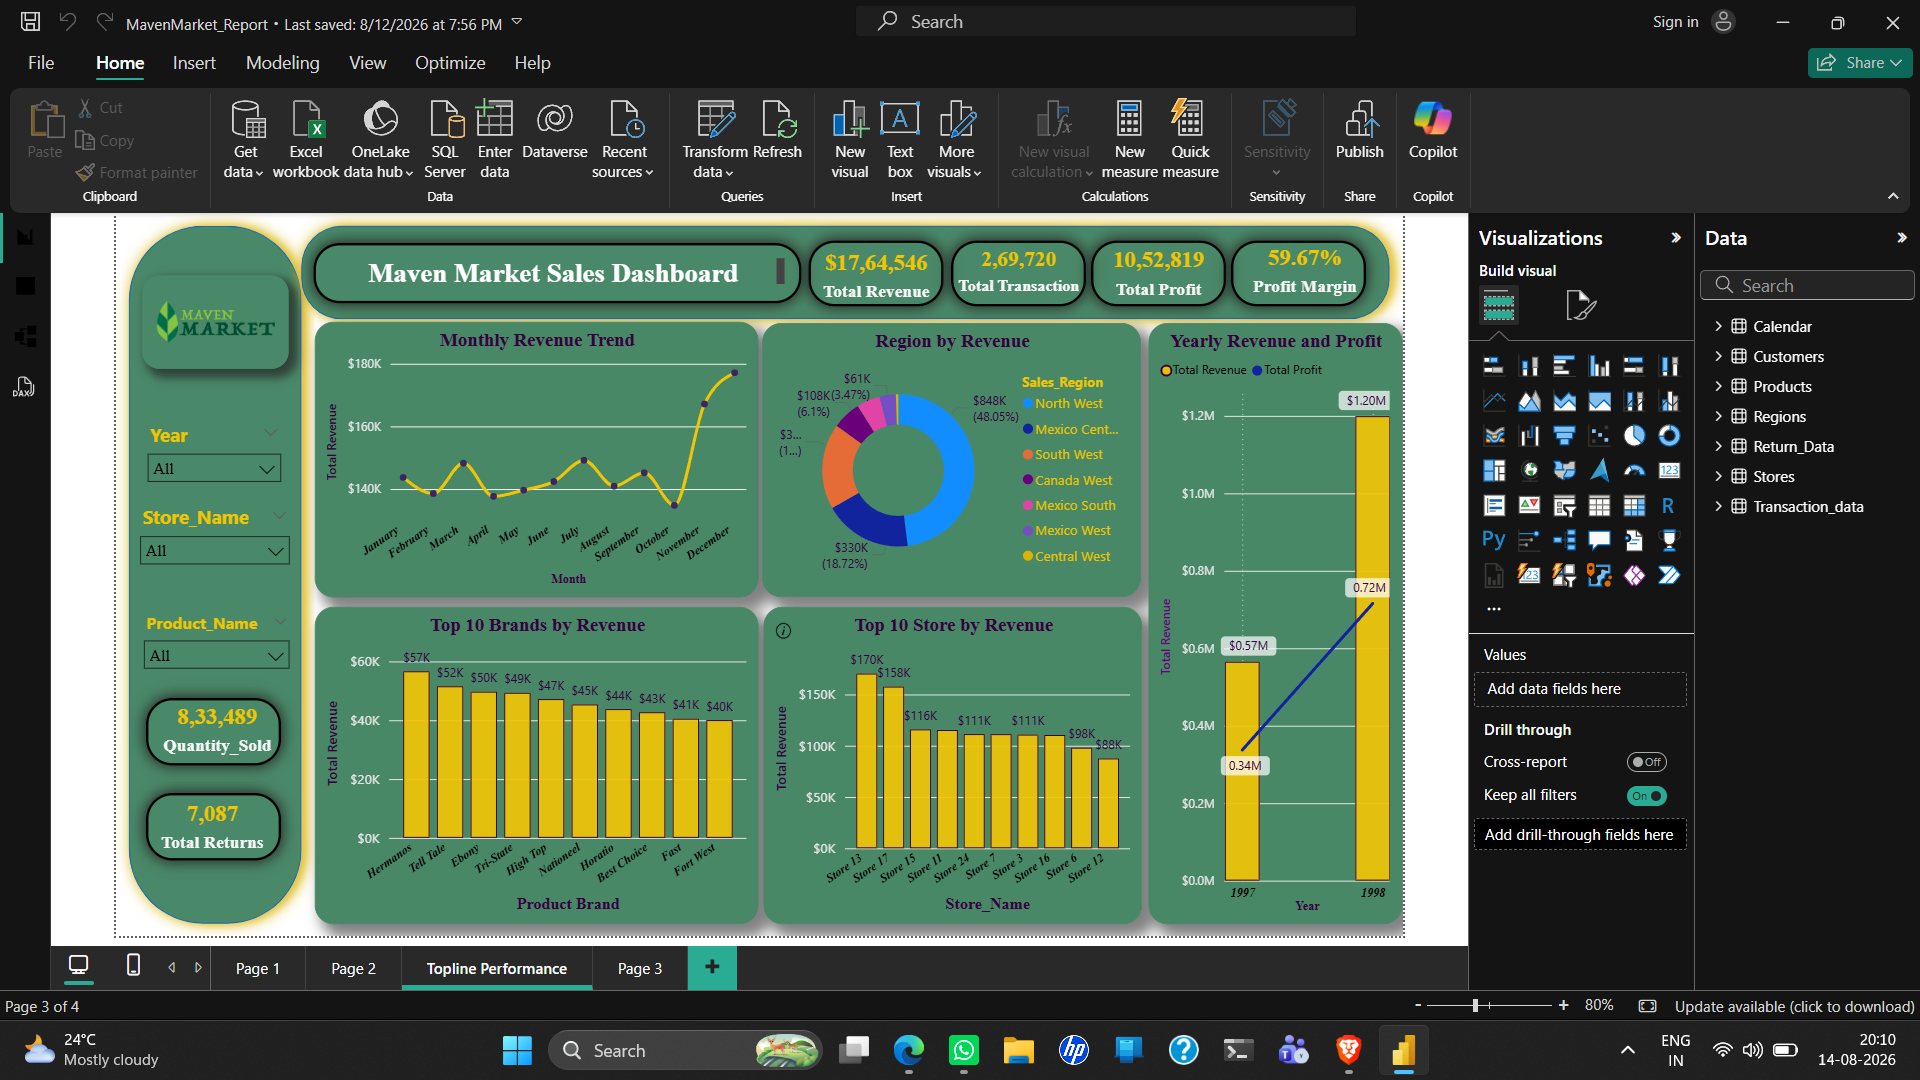

The dashboard page shown, as its layout file describes it:
{"tool":"powerbi","page":{"name":"Topline Performance","canvas":[1280,720],"ordinal":2},"visuals":[{"type":"shape","box":[0,0,197.5,720],"z":0},{"type":"shape","box":[171.4,0,1108.6,118.6],"z":1000},{"type":"image","box":[25.8,62.5,145.8,92.5],"z":2000},{"type":"textbox","box":[197.1,30,485.7,60],"z":3000},{"type":"textbox","box":[689.4,27.1,134.1,65.9],"z":4000},{"type":"textbox","box":[831.4,27.1,134.3,65.7],"z":5000},{"type":"textbox","box":[970.6,27.1,134.1,65.9],"z":6000},{"type":"textbox","box":[1110,27.1,134.3,65.7],"z":7000},{"type":"card","fields":{"Values":["Transaction_data.Total Revenue"]},"box":[670,20,172.9,78.8],"z":8000},{"type":"card","fields":{"Values":["Transaction_data.Total Transaction"]},"box":[818.4,16.8,160.5,74.7],"z":9000},{"type":"card","fields":{"Values":["Products.Total Profit"]},"box":[951.6,16.8,172.6,78.4],"z":10000},{"type":"card","fields":{"Values":["Products.Profit Margin"]},"box":[1096.8,14.7,172.6,78.4],"z":11000},{"type":"slicer","fields":{"Values":["Calendar.Year"]},"box":[21.1,202.8,153,73.4],"z":12000},{"type":"slicer","fields":{"Values":["Stores.store_name"]},"box":[13.7,284.9,169.2,74.6],"z":13000},{"type":"slicer","fields":{"Values":["Products.product_name"]},"box":[17.4,391.8,165.4,74.6],"z":14000},{"type":"lineChart","title":"Monthly Revenue Trend","fields":{"Y":["Transaction_data.Total Revenue"],"Category":["Calendar.Start of Month.Variation.Date Hierarchy.Month"]},"box":[197.6,108.4,441.9,274.4],"z":15000},{"type":"clusteredColumnChart","title":"Top 10 Brands by Revenue","fields":{"Y":["Transaction_data.Total Revenue"],"Category":["Products.product_brand"]},"box":[197.6,392.5,441.9,315.6],"z":16000},{"type":"donutChart","title":"Region by Revenue","fields":{"Y":["Transaction_data.Total Revenue"],"Category":["Regions.sales_region"]},"box":[643.1,109.5,376.9,272.4],"z":17000},{"type":"clusteredColumnChart","title":"Top 10 Store by Revenue","fields":{"Category":["Stores.Store_Name"],"Y":["Transaction_data.Total Revenue"]},"box":[644.4,391.8,376.9,316],"z":18000},{"type":"image","title":"i button for  top 10 Store","box":[639.4,400.6,49.8,28.6],"z":19000},{"type":"lineClusteredColumnComboChart","title":"Yearly  Revenue and Profit","fields":{"Category":["Calendar.Start of Month.Variation.Date Hierarchy.Year","Calendar.Start of Month.Variation.Date Hierarchy.Quarter","Calendar.Start of Month.Variation.Date Hierarchy.Month","Calendar.Start of Month.Variation.Date Hierarchy.Day"],"Y":["Transaction_data.Total Revenue"],"Y2":["Products.Total Profit"]},"box":[1027.5,109.4,252.5,598.8],"z":20000},{"type":"card","fields":{"Values":["Return_Data.Quantity_Sold"]},"box":[21.4,471.4,160,78.6],"z":21000},{"type":"textbox","box":[30,482.9,134.3,67.1],"z":22000},{"type":"textbox","box":[30,577.1,134.3,67.1],"z":23000},{"type":"card","fields":{"Values":["Transaction_data.Total Returns"]},"box":[16.7,566.7,160,80],"z":24000}]}

Visuals, with their boxes on the page's 1280x720 design canvas (x1, y1, x2, y2). These are canvas units, not pixel positions in the 1920x1080 screenshot, which may show the page scaled, cropped or inside an application window:
shape: bbox=[0, 0, 198, 720]
shape: bbox=[171, 0, 1280, 119]
image: bbox=[26, 62, 172, 155]
textbox: bbox=[197, 30, 683, 90]
textbox: bbox=[689, 27, 824, 93]
textbox: bbox=[831, 27, 966, 93]
textbox: bbox=[971, 27, 1105, 93]
textbox: bbox=[1110, 27, 1244, 93]
card - Transaction_data.Total Revenue: bbox=[670, 20, 843, 99]
card - Transaction_data.Total Transaction: bbox=[818, 17, 979, 92]
card - Products.Total Profit: bbox=[952, 17, 1124, 95]
card - Products.Profit Margin: bbox=[1097, 15, 1269, 93]
slicer - Calendar.Year: bbox=[21, 203, 174, 276]
slicer - Stores.store_name: bbox=[14, 285, 183, 360]
slicer - Products.product_name: bbox=[17, 392, 183, 466]
"Monthly Revenue Trend" lineChart: bbox=[198, 108, 640, 383]
"Top 10 Brands by Revenue" clusteredColumnChart: bbox=[198, 392, 640, 708]
"Region by Revenue" donutChart: bbox=[643, 110, 1020, 382]
"Top 10 Store by Revenue" clusteredColumnChart: bbox=[644, 392, 1021, 708]
"i button for  top 10 Store" image: bbox=[639, 401, 689, 429]
"Yearly  Revenue and Profit" lineClusteredColumnComboChart: bbox=[1028, 109, 1280, 708]
card - Return_Data.Quantity_Sold: bbox=[21, 471, 181, 550]
textbox: bbox=[30, 483, 164, 550]
textbox: bbox=[30, 577, 164, 644]
card - Transaction_data.Total Returns: bbox=[17, 567, 177, 647]
